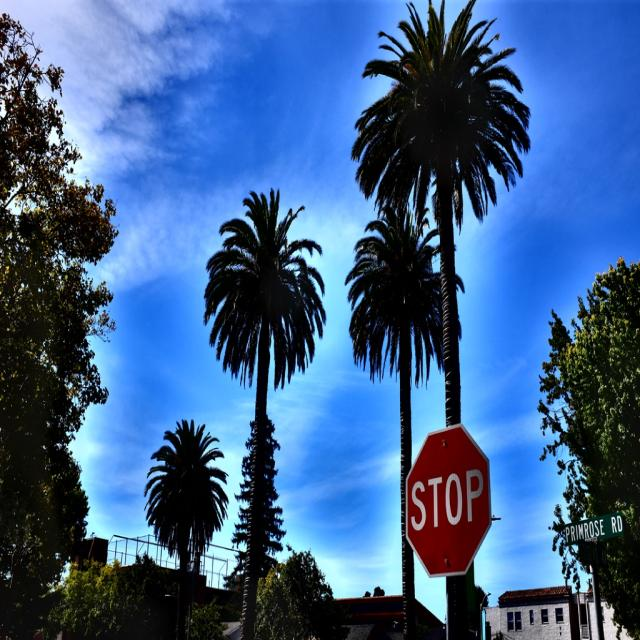Stop-sign: (405, 419, 492, 581)
